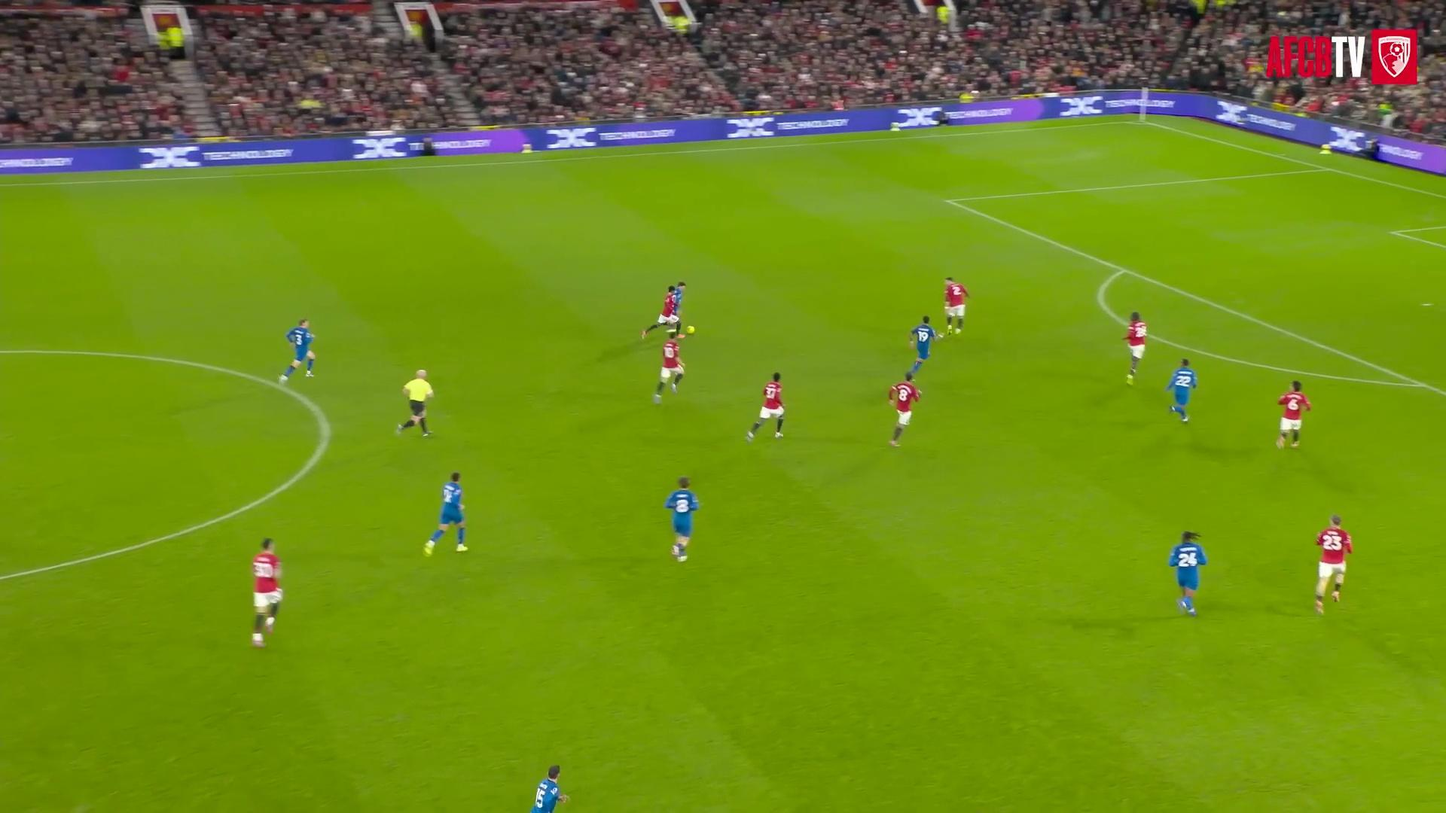football: (686, 325, 695, 333)
player: (1315, 515, 1353, 613), (424, 472, 468, 556), (252, 538, 282, 647), (1169, 531, 1207, 616), (665, 477, 698, 562), (746, 372, 784, 441), (1277, 381, 1311, 448), (889, 373, 920, 446), (279, 319, 314, 383), (1166, 358, 1197, 422), (653, 338, 683, 403), (642, 286, 679, 337), (531, 766, 569, 812), (1123, 312, 1146, 382), (909, 315, 936, 374), (946, 276, 968, 335), (673, 281, 685, 324)
referee: (397, 370, 433, 436)
